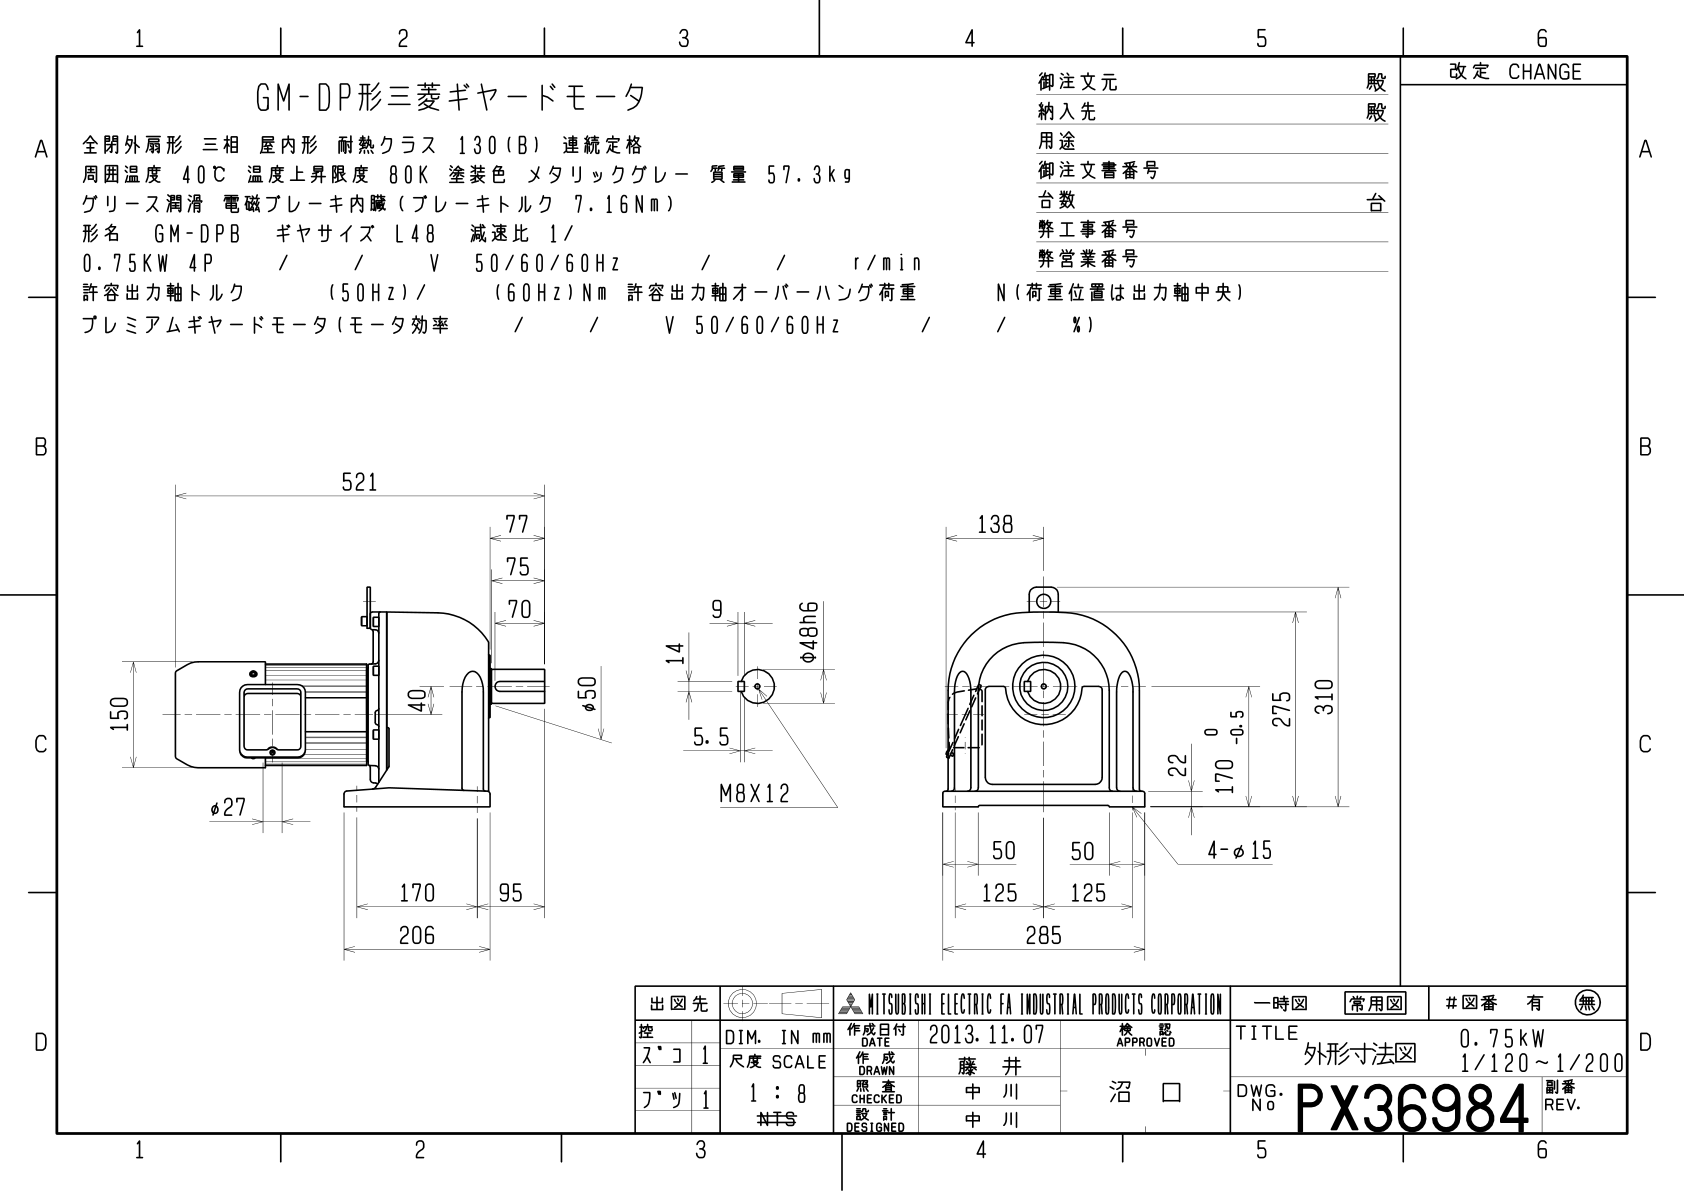GM_DP_屋内_三相_脚: (91, 443, 1379, 971)
